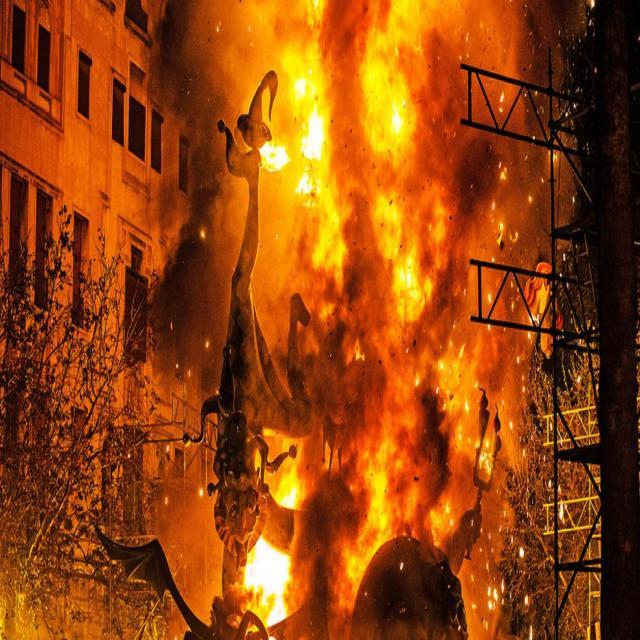Fire: (220, 0, 556, 640)
Smoke: (142, 0, 218, 399), (489, 0, 555, 250), (165, 500, 217, 636)
